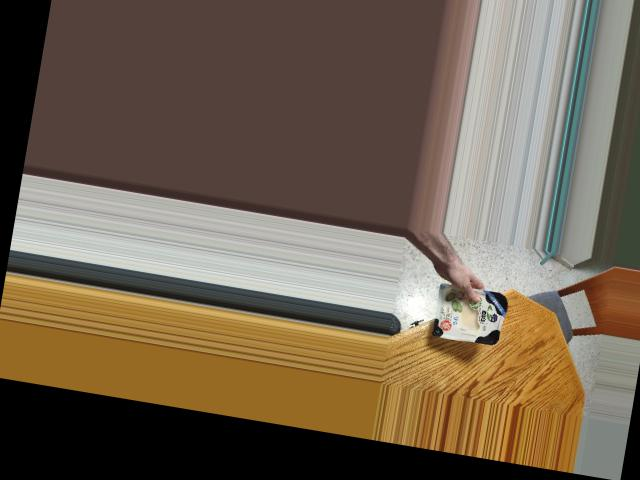cheese: (427, 277, 510, 346)
